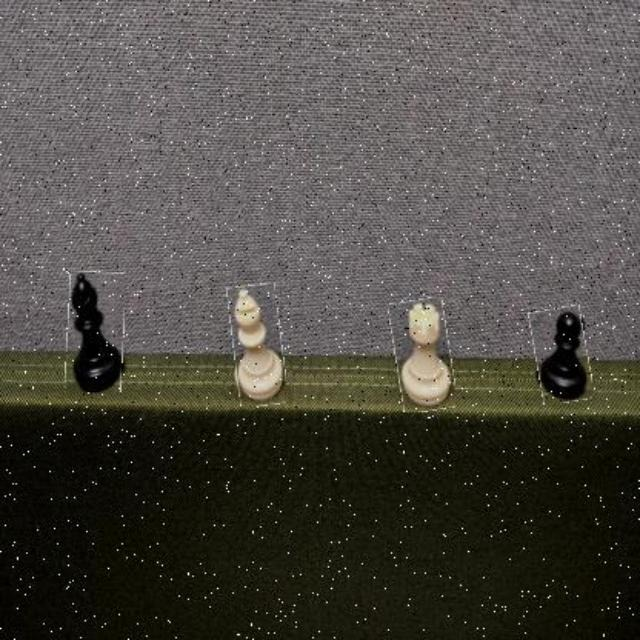black-bishop: (67, 271, 125, 394)
black-pawn: (532, 307, 590, 403)
white-bishop: (230, 285, 285, 407)
white-rook: (391, 299, 452, 411)
